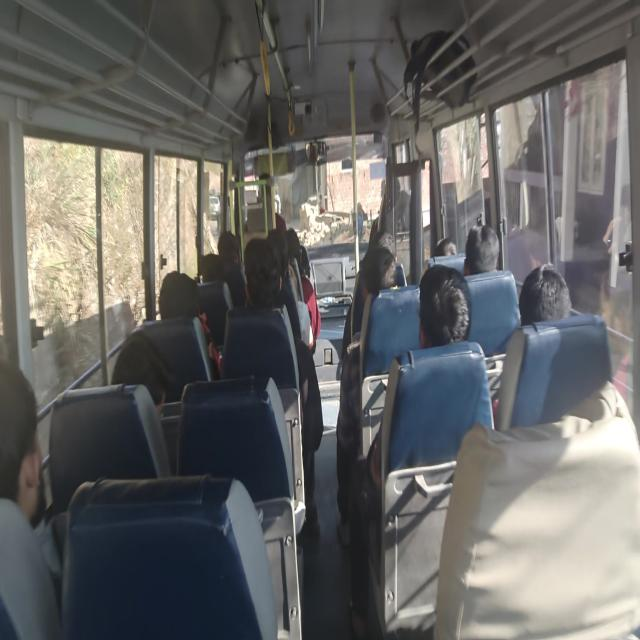person: (350, 263, 494, 636), (434, 413, 640, 638), (222, 236, 323, 534), (367, 264, 472, 487), (336, 232, 397, 545), (518, 262, 635, 424), (0, 360, 62, 638), (158, 270, 221, 376), (111, 330, 176, 416), (418, 263, 472, 349), (286, 228, 322, 347), (266, 228, 302, 340), (519, 262, 572, 326), (463, 223, 500, 275), (217, 230, 240, 264), (434, 236, 457, 256)
